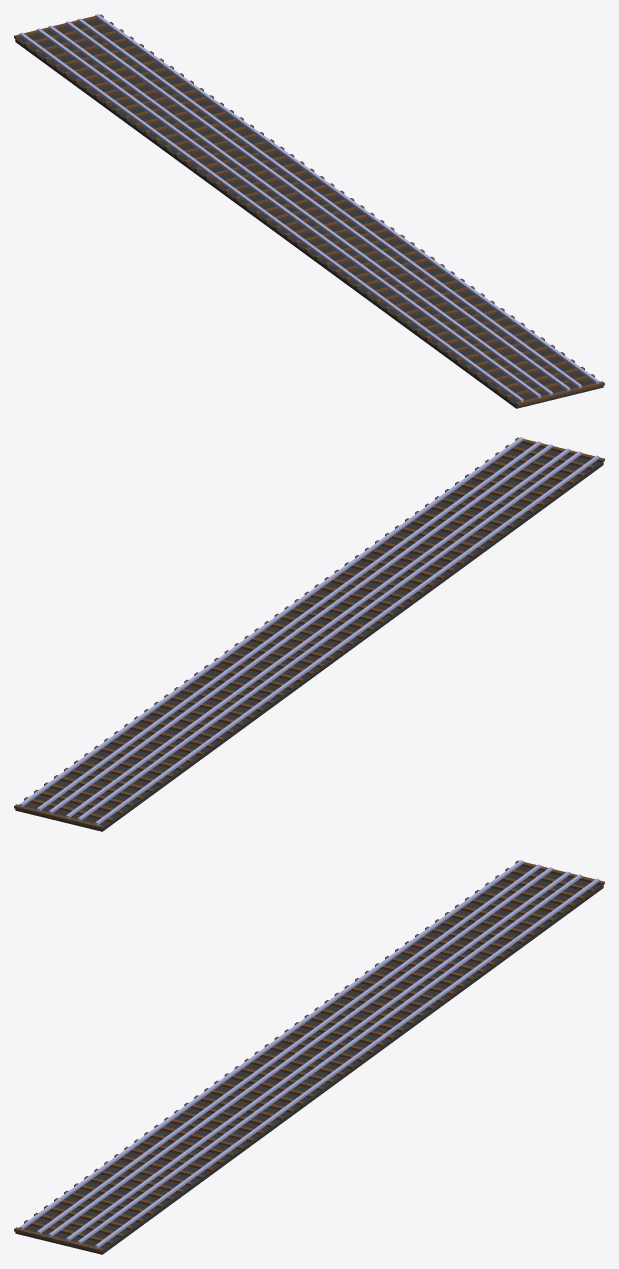
Rendered from SM_train_tracks3.fbx.
3 views of the same model, one above another, from view 1: azimuth 30°, elevation 25°; view 2: azimuth 150°, elevation 25°; view 3: azimuth 330°, elevation 25° (orthographic).
Visible parts, largest first — view 1: Railroad3; view 2: Railroad3; view 3: Railroad3.
Boxes of the visible parts, box(x1,y1,x2,y2) form: Railroad3: box(14, 14, 604, 408); Railroad3: box(14, 437, 604, 831); Railroad3: box(14, 860, 604, 1254).
Size of the model in its own units: 300 by 25.01 by 3000.
